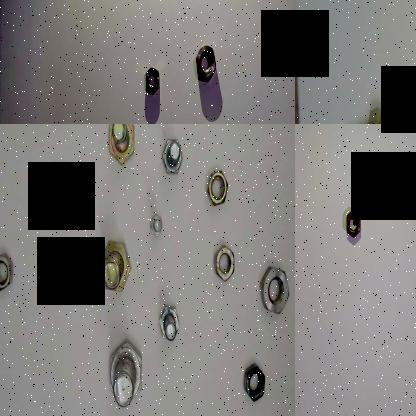Bolts: (102, 336, 146, 416), (95, 235, 134, 292), (335, 99, 392, 124), (155, 294, 182, 346), (106, 124, 138, 164), (158, 134, 184, 174), (146, 208, 164, 244)
NUTS: (38, 159, 78, 229), (255, 261, 295, 323), (198, 165, 230, 217), (240, 355, 268, 409), (210, 245, 238, 284), (192, 41, 216, 85), (0, 248, 14, 304), (345, 204, 362, 242), (142, 62, 161, 94)
